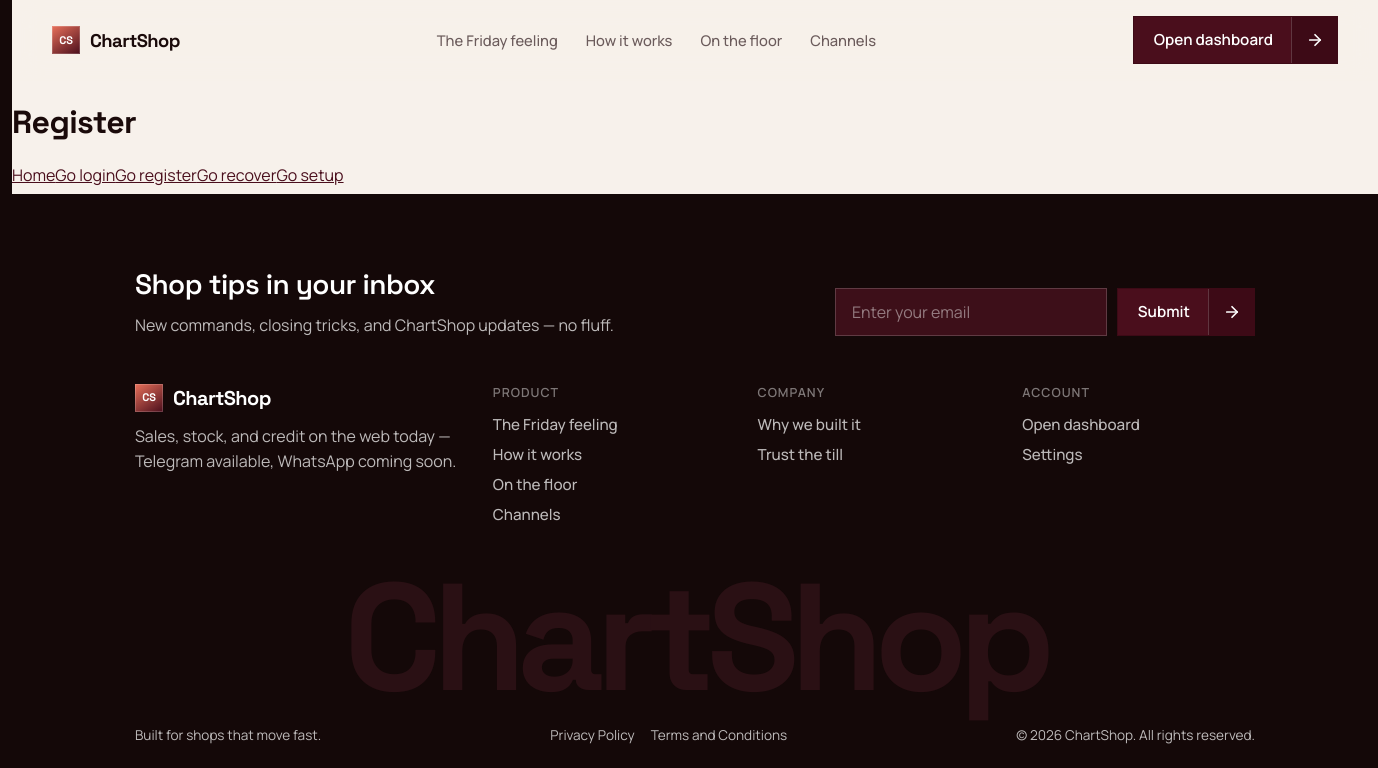
Scenario: scroll behaviour › SiteLayout › resets window scroll when navigating /register → next marketing route
The width and height of the screenshot is (1378, 768).
Click the link "Go recover": (237, 175) [197,164,276,186]
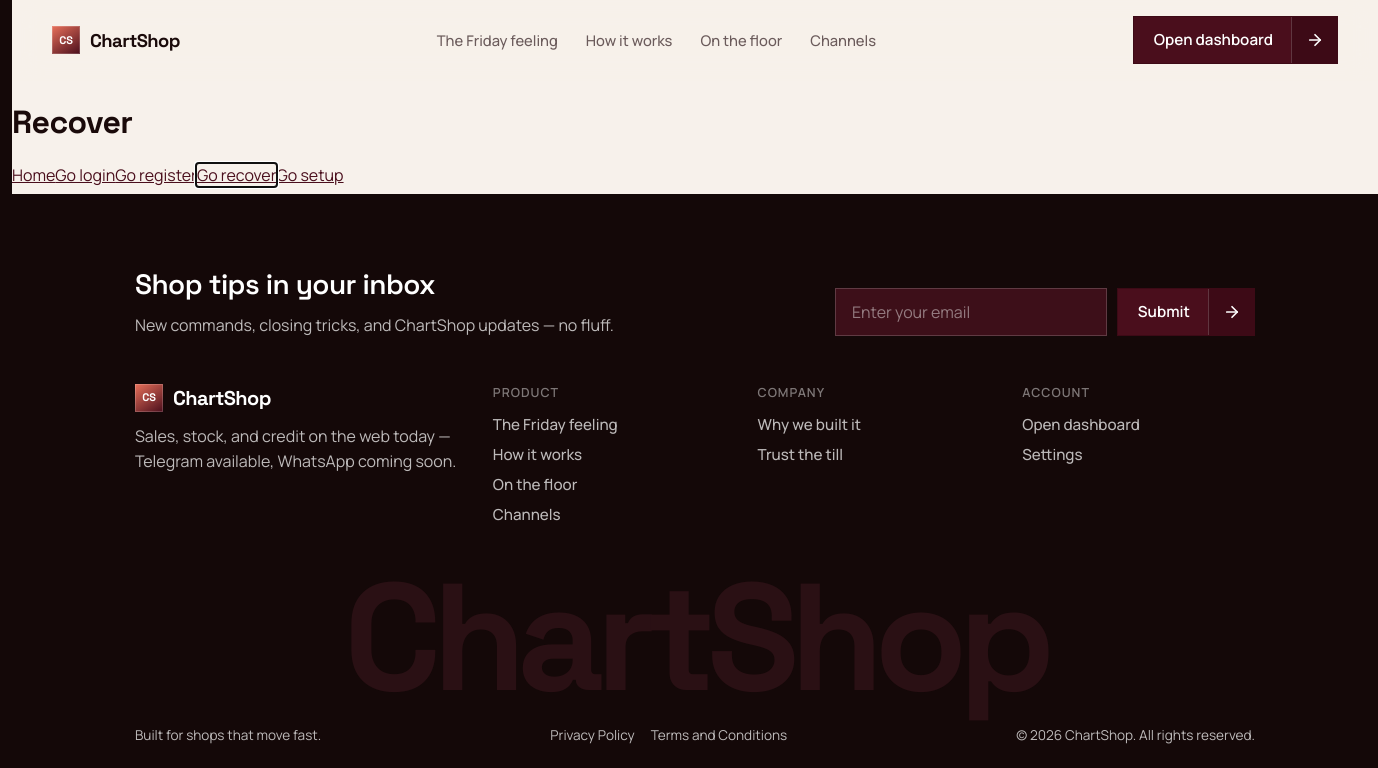
Expected: the heading "Recover" is shown, [12,102,132,142]
